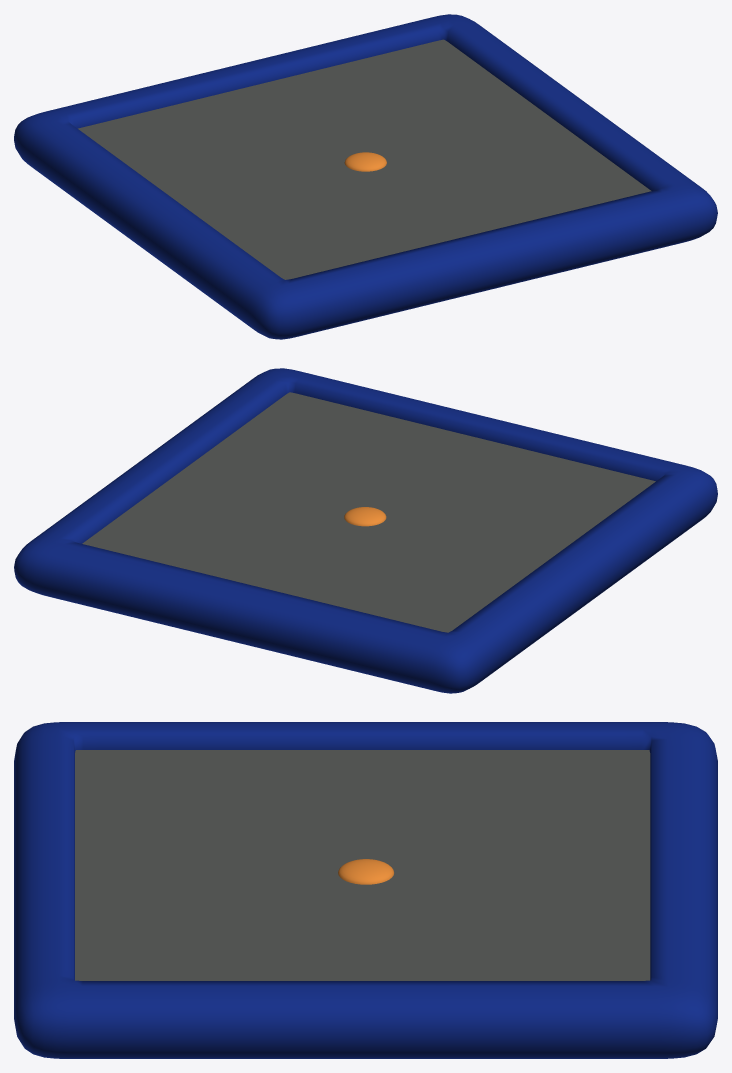
Rendered from Floating Platform.fbx.
3 views of the same model, one above another, from view 1: azimuth 30°, elevation 25°; view 2: azimuth 150°, elevation 25°; view 3: azimuth 270°, elevation 25° (orthographic). The views are drawn at different scales.
Visible parts, largest first — view 1: Platform; view 2: Platform; view 3: Platform.
Boxes of the visible parts, box(x1,y1,x2,y2) form: Platform: box(14, 14, 717, 339); Platform: box(14, 368, 717, 693); Platform: box(14, 722, 717, 1058).
Bounding box in the file's own units: 397 × 39.79 × 397.
